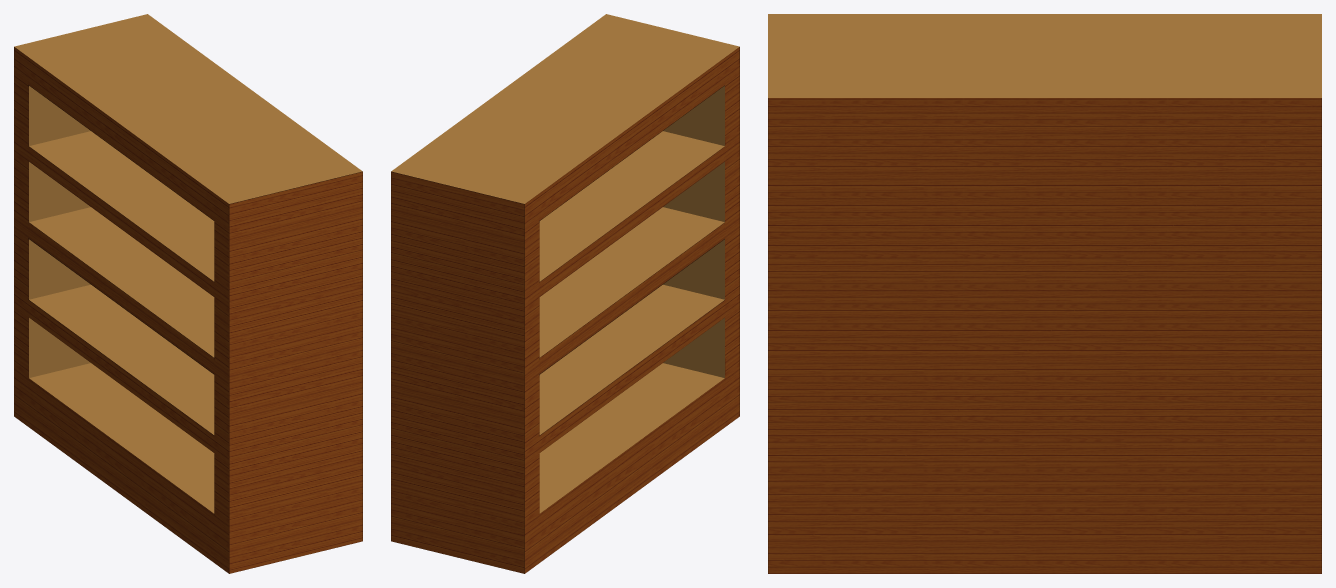
The model's file is Bookshelf V2.fbx.
3 views of the same model, side by side, from view 1: azimuth 30°, elevation 25°; view 2: azimuth 150°, elevation 25°; view 3: azimuth 270°, elevation 25° (orthographic). The views are drawn at different scales.
Visible parts, largest first — view 1: BookShelf; view 2: BookShelf; view 3: BookShelf.
Part boxes in pixels (x1,y1,x2,y2): BookShelf: [14, 14, 362, 573]; BookShelf: [391, 14, 739, 573]; BookShelf: [768, 14, 1321, 573].
Bounding box in the file's own units: 123 × 325 × 343.
Materials: 2 (1 with a texture image).
